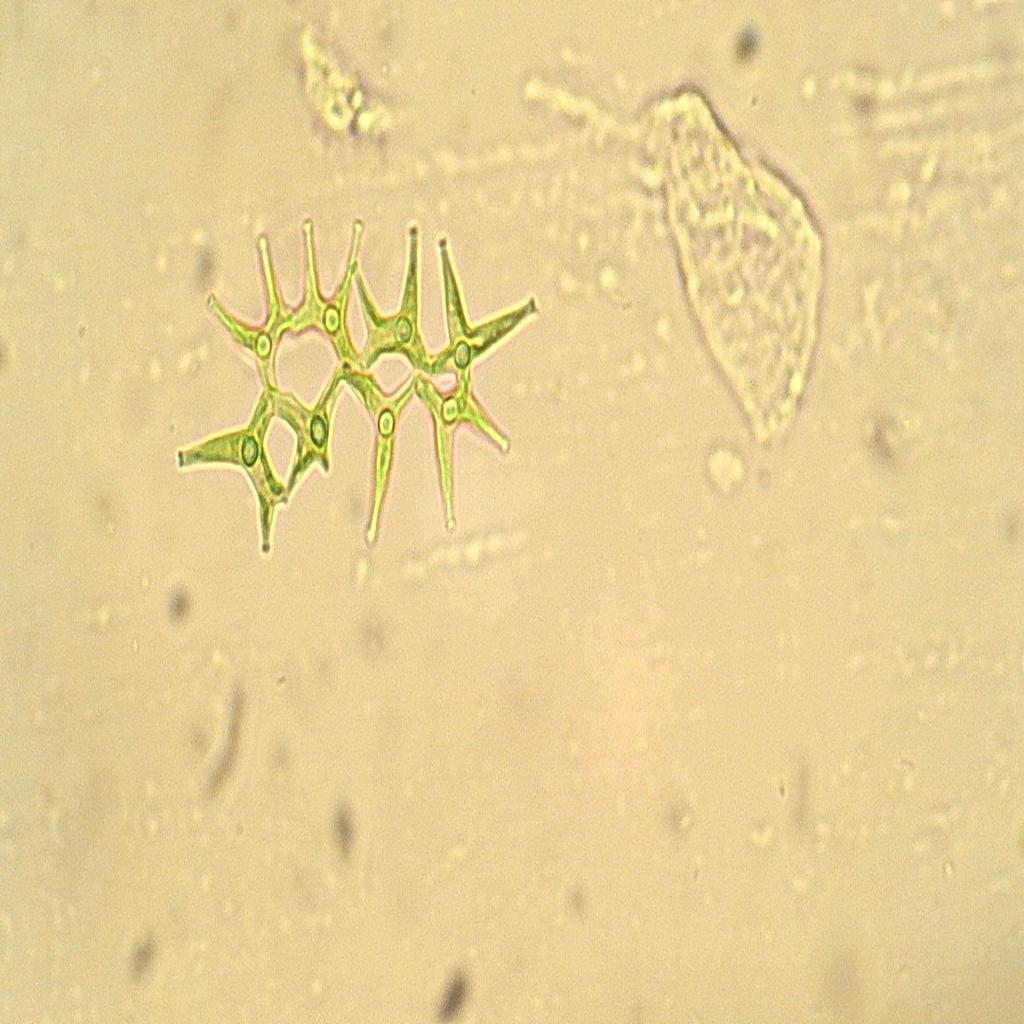Pediastrum_CFI: (160, 191, 560, 577)
